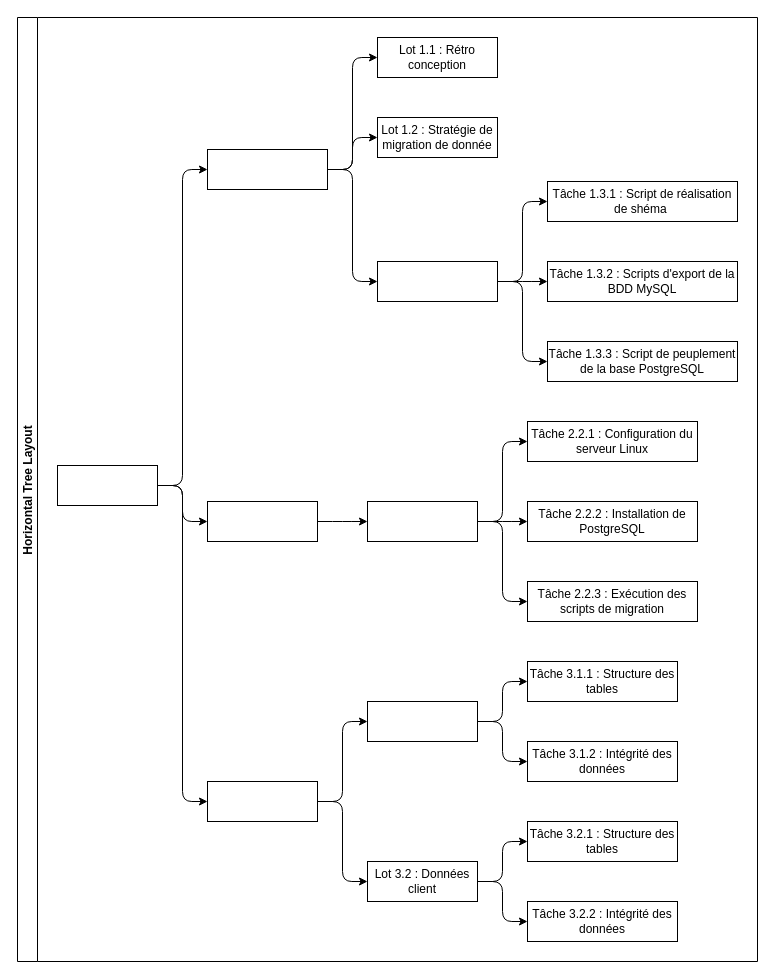
Some shapes in this 775 by 979 pixel diagram are drawn without their labels. Each missing label, with the box of its shape:
Lot 1 : Préaparation: (206, 148, 328, 190)
Lot 1.3 : Codage des scripts: (376, 260, 498, 302)
Lot 2 : Réalisation: (206, 500, 318, 542)
Lot 2.2 : Installation du serveur: (366, 500, 478, 542)
Lot 3 : Recette: (206, 780, 318, 822)
Lot 3.1 : Données de facturation: (366, 700, 478, 742)
Migration BDD: (56, 464, 158, 506)
